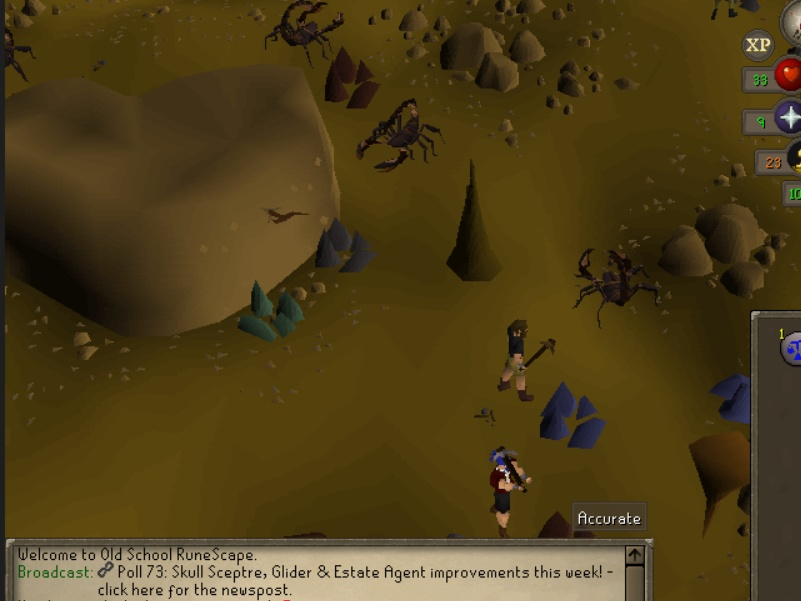adamant: (234, 271, 312, 344)
iron: (314, 40, 383, 113)
mithril: (536, 374, 613, 458), (710, 365, 753, 423)
